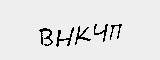В: (39, 28, 52, 48)
К: (73, 26, 88, 46)
Н: (56, 24, 74, 49)
П: (107, 22, 122, 43)
Ч: (92, 22, 110, 43)
